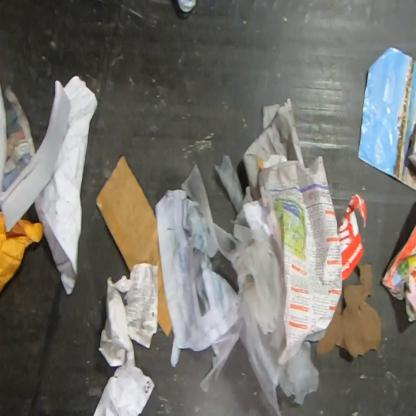cardboard: (95, 156, 173, 337), (379, 222, 415, 323), (337, 192, 368, 282)
soft_plastic: (198, 154, 320, 416)
